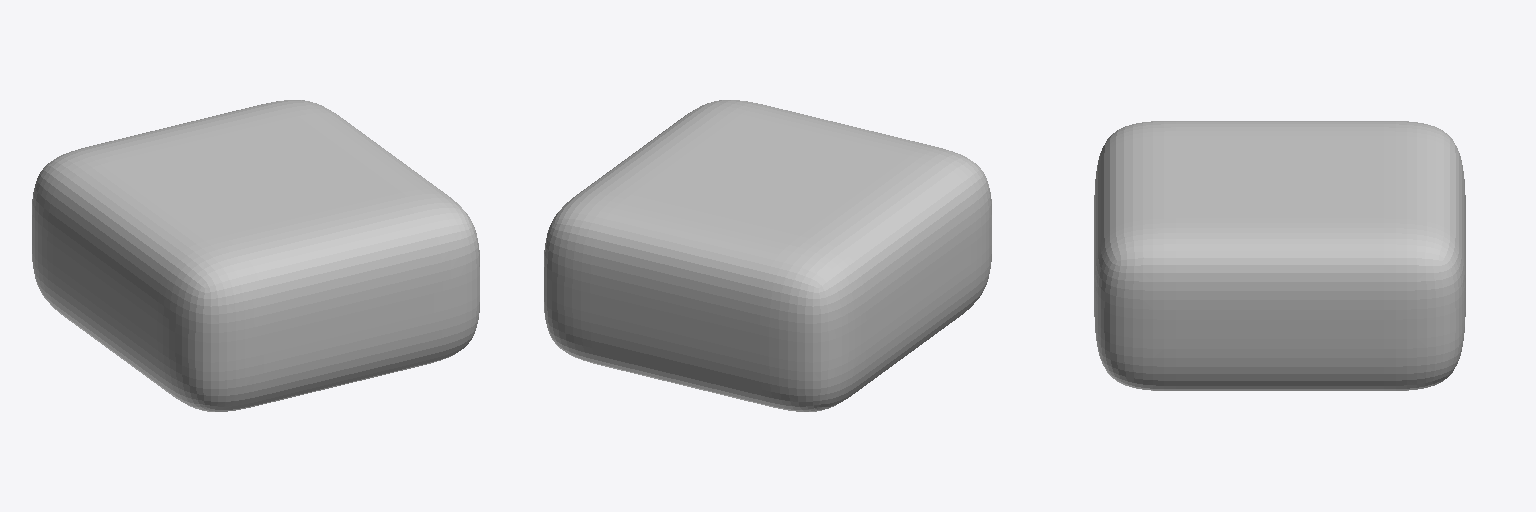
File: LightBox01.obj
3 views of the same model, side by side, from view 1: azimuth 30°, elevation 25°; view 2: azimuth 150°, elevation 25°; view 3: azimuth 270°, elevation 25° (orthographic).
Parts seen in each view (by area): view 1: LightBox; view 2: LightBox; view 3: LightBox.
Part boxes in pixels (left/top/right/bottom): LightBox: left=32, top=100, right=479, bottom=411; LightBox: left=544, top=100, right=991, bottom=411; LightBox: left=1094, top=121, right=1465, bottom=390.
Bounding box in the file's own units: 30 × 15 × 32.